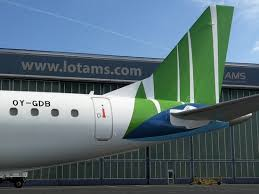maybay_dansu: (4, 18, 259, 168)
